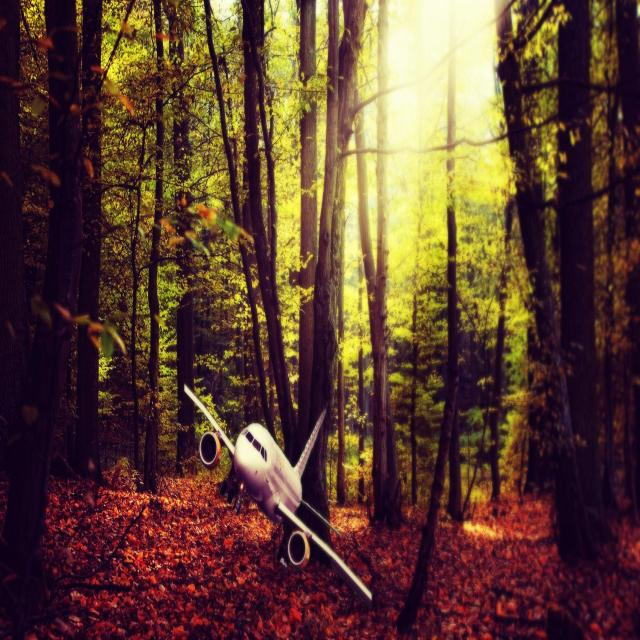airplane: (183, 382, 373, 609)
